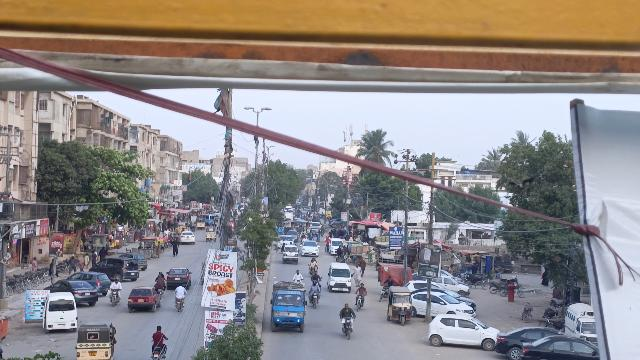Bike: (519, 300, 535, 323), (341, 316, 354, 340), (150, 345, 167, 360), (108, 289, 121, 307), (309, 290, 321, 309), (354, 293, 367, 310), (174, 297, 184, 314), (154, 284, 166, 296)
Car: (428, 312, 498, 350), (519, 333, 606, 360), (496, 324, 560, 355), (411, 290, 476, 320), (43, 279, 101, 306), (89, 257, 141, 281), (67, 269, 111, 293), (128, 284, 161, 311), (164, 266, 193, 288), (301, 240, 320, 257)
Person: (149, 325, 167, 345), (338, 303, 356, 321), (172, 282, 188, 298), (354, 261, 363, 283), (309, 280, 321, 294), (109, 278, 123, 290), (355, 283, 368, 295), (155, 271, 165, 286), (292, 269, 304, 280), (310, 271, 322, 281)
Rickshaw: (76, 321, 117, 360), (386, 284, 414, 327)
Suzuki: (281, 243, 300, 265)
Truck: (270, 278, 308, 333)
Van: (42, 290, 79, 334), (328, 261, 352, 294)
